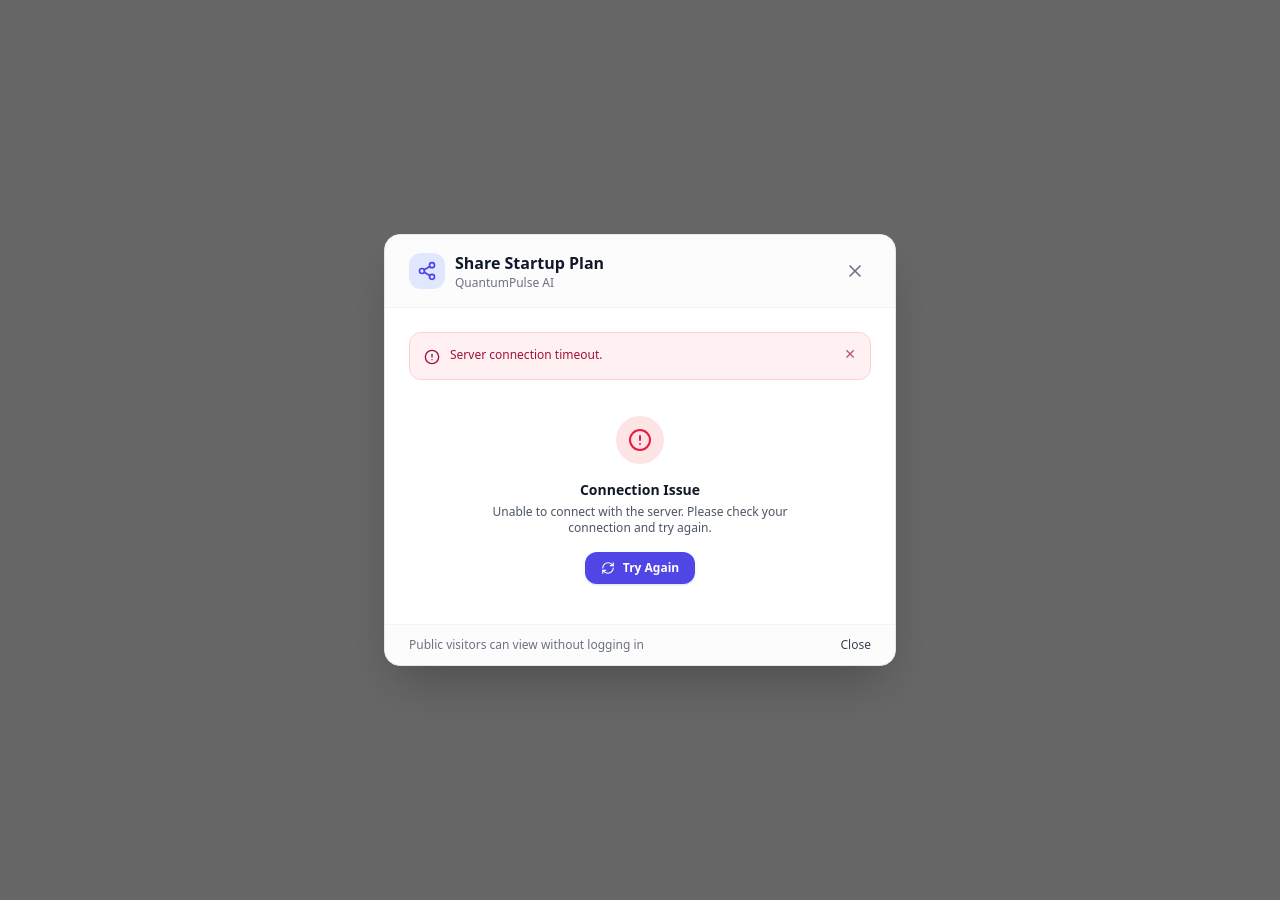
Test: ShareModal & Share Management UX (Phase 5.5) › 22: Network failure displays retryable error state
Expected: the heading "Connection Issue" is shown, [580,480,700,499]
Click the button "Try Again".
click(640, 568)  # box [585,552,695,584]
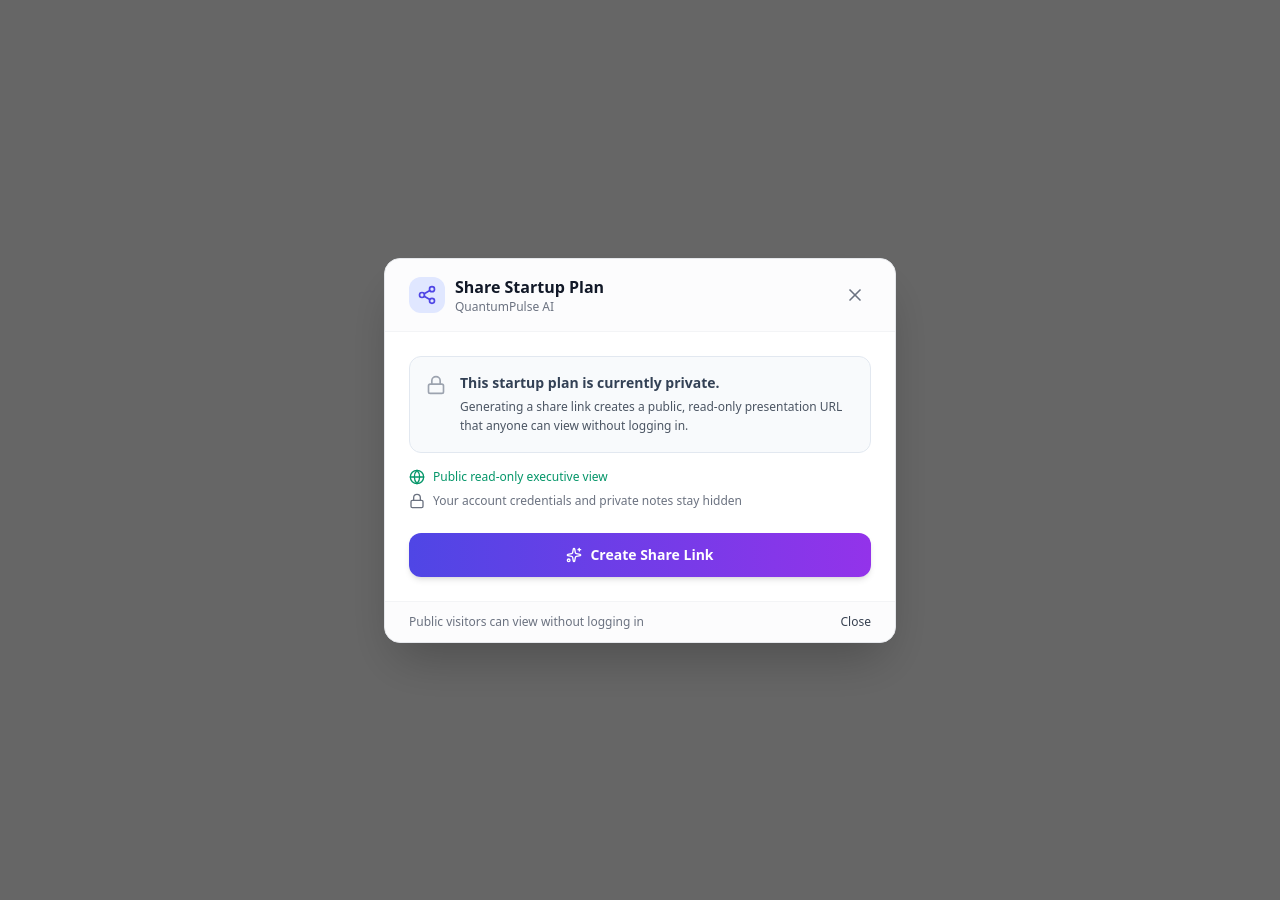
Expected: the text "This startup plan is currently private." is shown, [460,372,720,392]
